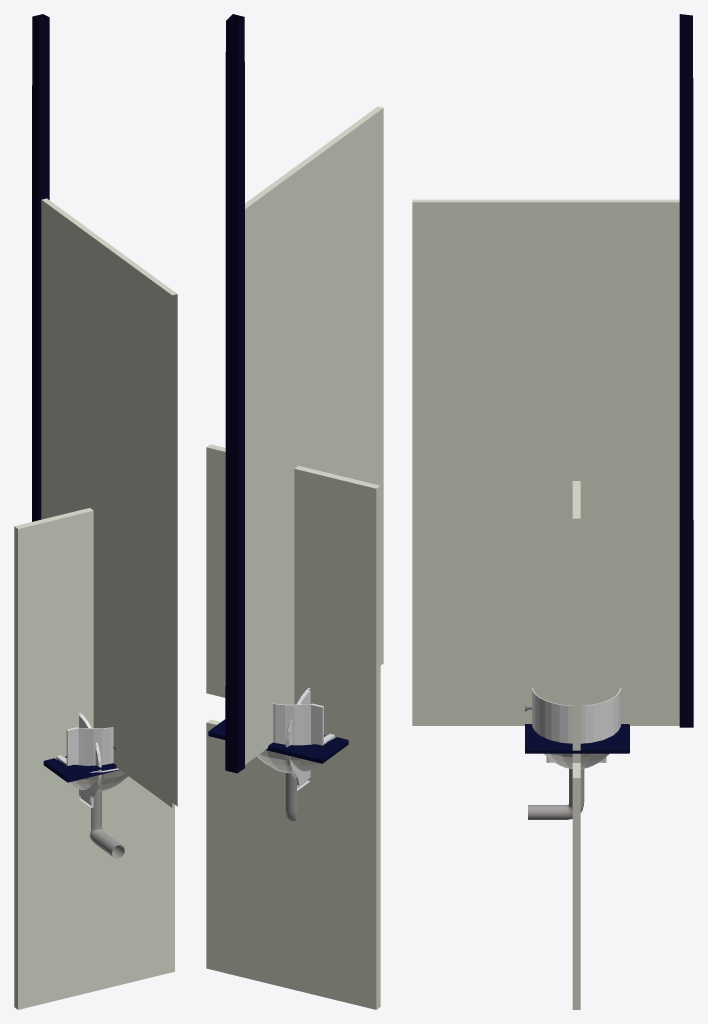
The model's file is Banheiro2.fbx.
3 views of the same model, side by side, from view 1: azimuth 30°, elevation 25°; view 2: azimuth 150°, elevation 25°; view 3: azimuth 270°, elevation 25° (orthographic). The views are drawn at different scales.
Parts seen in each view (by area): view 1: ParedeR, PortaDestruida, Pia, DispensorTampa, DispensorDestruído; view 2: ParedeR, PortaDestruida, Pia, DispensorTampa, DispensorDestruído; view 3: ParedeR, PortaDestruida, Pia, DispensorTampa.
Boxes of the visible parts, x1,y1,x2,y2 form: ParedeR: (32,14,177,807); PortaDestruida: (14,508,174,1009); Pia: (43,746,128,858); DispensorTampa: (56,727,113,765); DispensorDestruído: (79,712,101,808); ParedeR: (225,14,383,773); PortaDestruida: (206,444,380,1009); Pia: (208,719,348,821); DispensorTampa: (273,703,334,745); DispensorDestruído: (285,688,310,791); ParedeR: (412,14,693,727); PortaDestruida: (572,481,580,1009); Pia: (525,705,629,819); DispensorTampa: (532,687,621,743).
Size of the model in its own units: 80 by 455 by 122.
